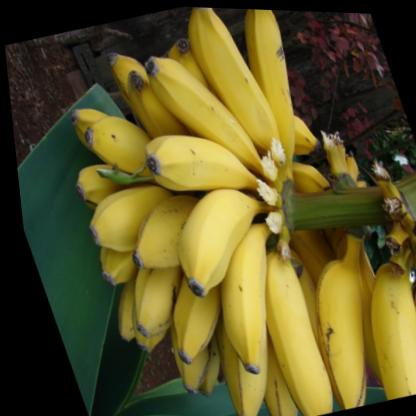banana: (275, 229, 408, 411), (134, 29, 265, 194), (145, 173, 289, 314), (230, 238, 341, 416), (173, 5, 285, 165), (124, 107, 266, 233), (222, 6, 328, 164)
